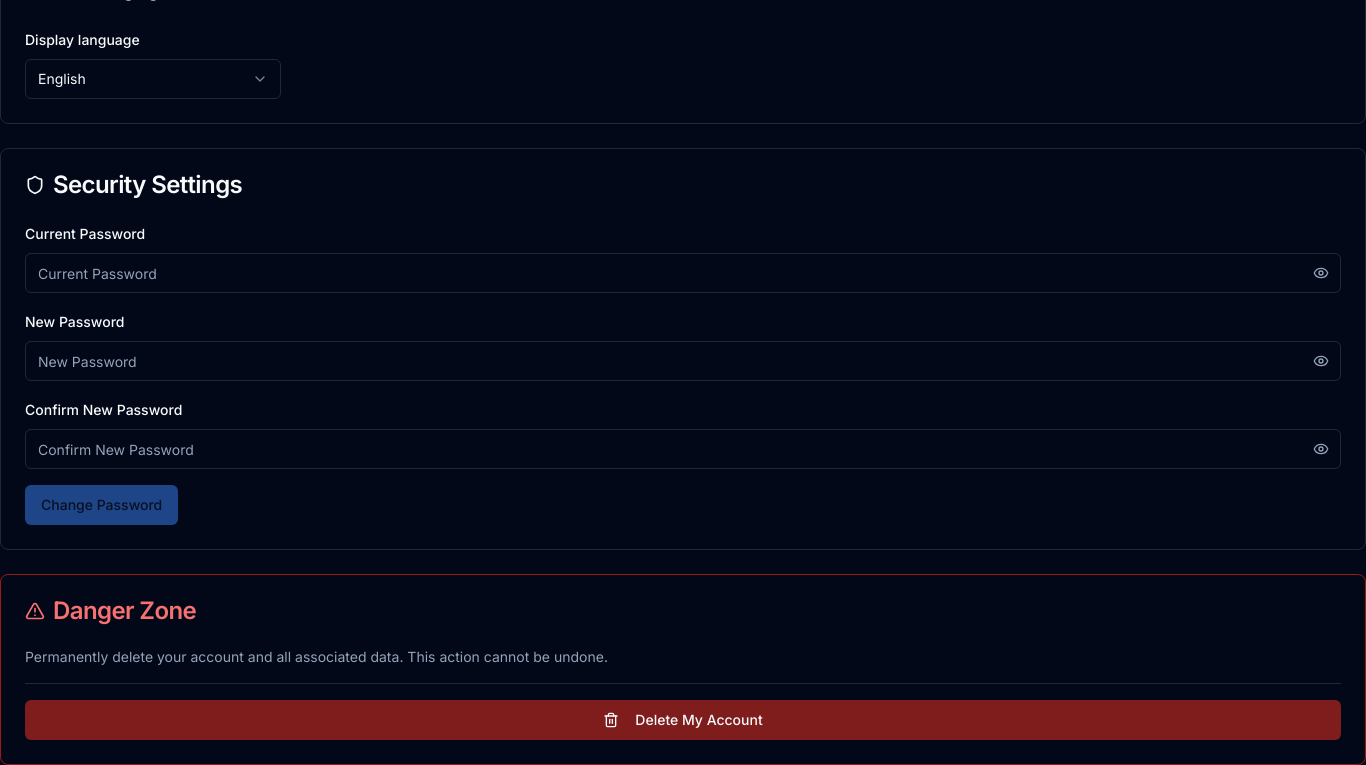
SettingsPage › requires a password before deleting the account
(page scrolled)
Click the button "Delete My Account" at point(683, 720), box [25,700,1341,740]
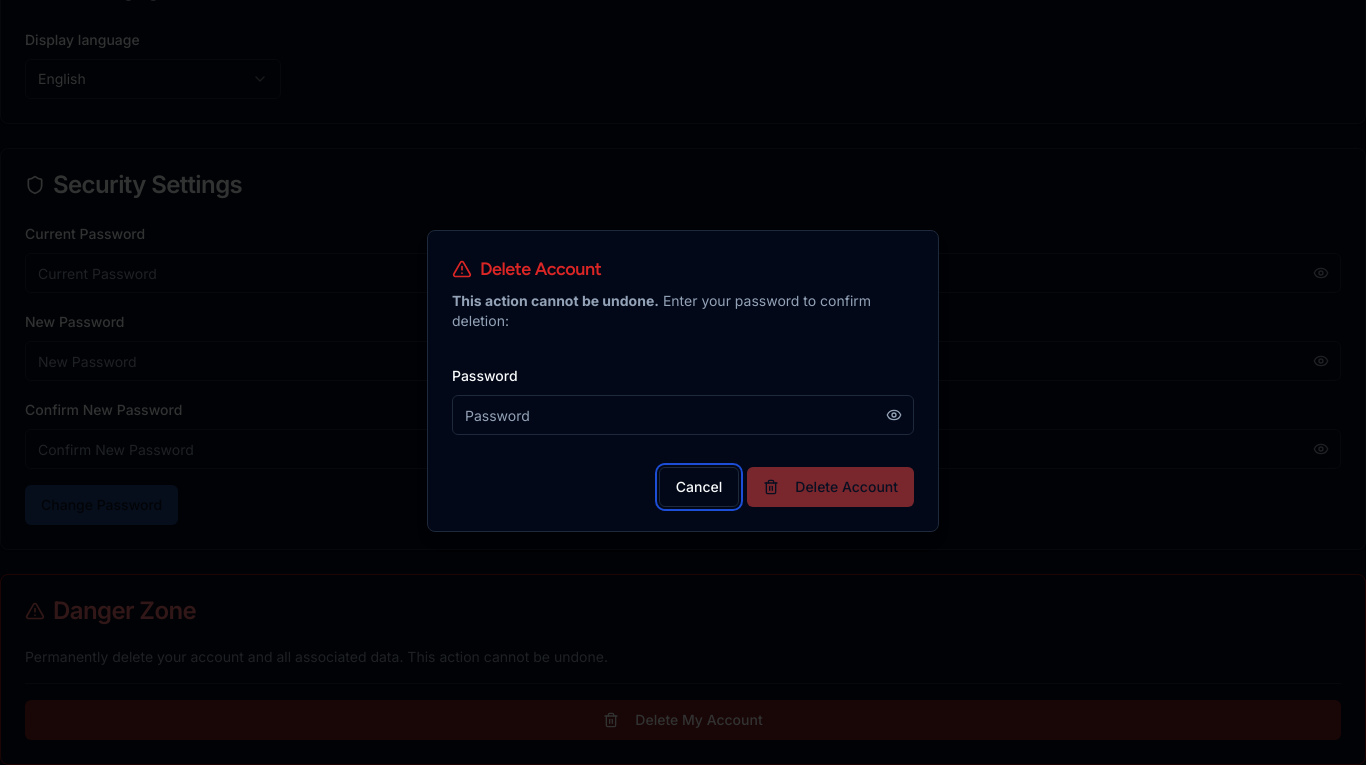
expect the text "This action cannot be undone." is shown: met, box [452,292,659,309]
expect the button "Delete Account" is disabled: met, box [747,467,914,507]
